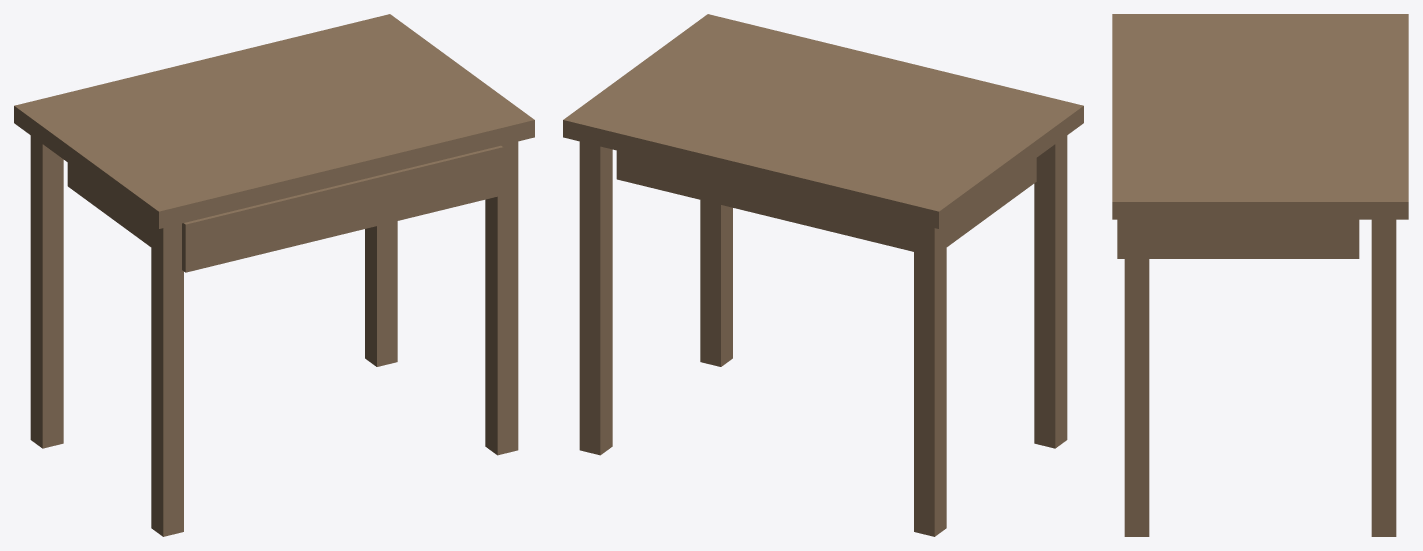
Rendered from table.glb.
3 views of the same model, side by side, from view 1: azimuth 30°, elevation 25°; view 2: azimuth 150°, elevation 25°; view 3: azimuth 270°, elevation 25° (orthographic). The views are drawn at different scales.
Visible parts, largest first — view 1: table; view 2: table; view 3: table.
Part boxes in pixels (x1,y1,x2,y2): table: (14, 14, 534, 536); table: (563, 14, 1083, 536); table: (1112, 14, 1408, 536).
Size of the model in its own units: 0.9 by 0.76 by 0.6.
